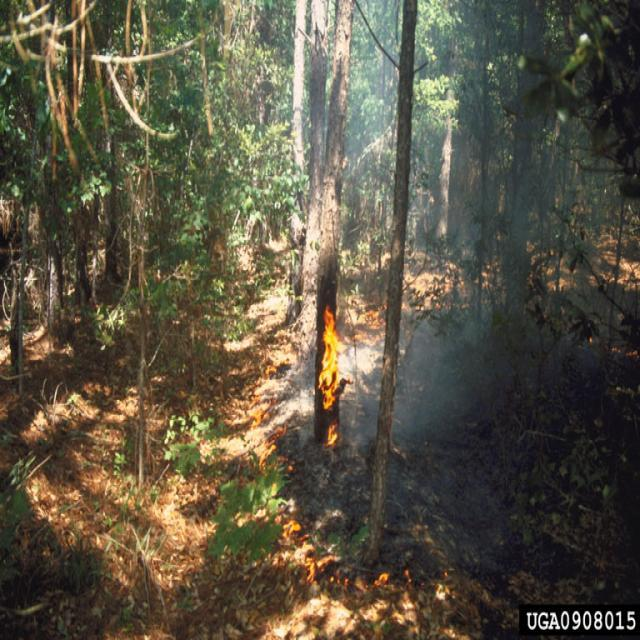Fire: (318, 304, 349, 446)
